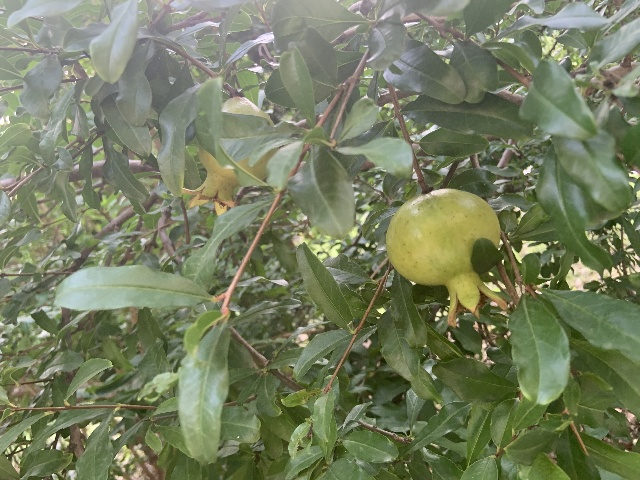mid-growth: (385, 188, 510, 328), (183, 96, 279, 216)
